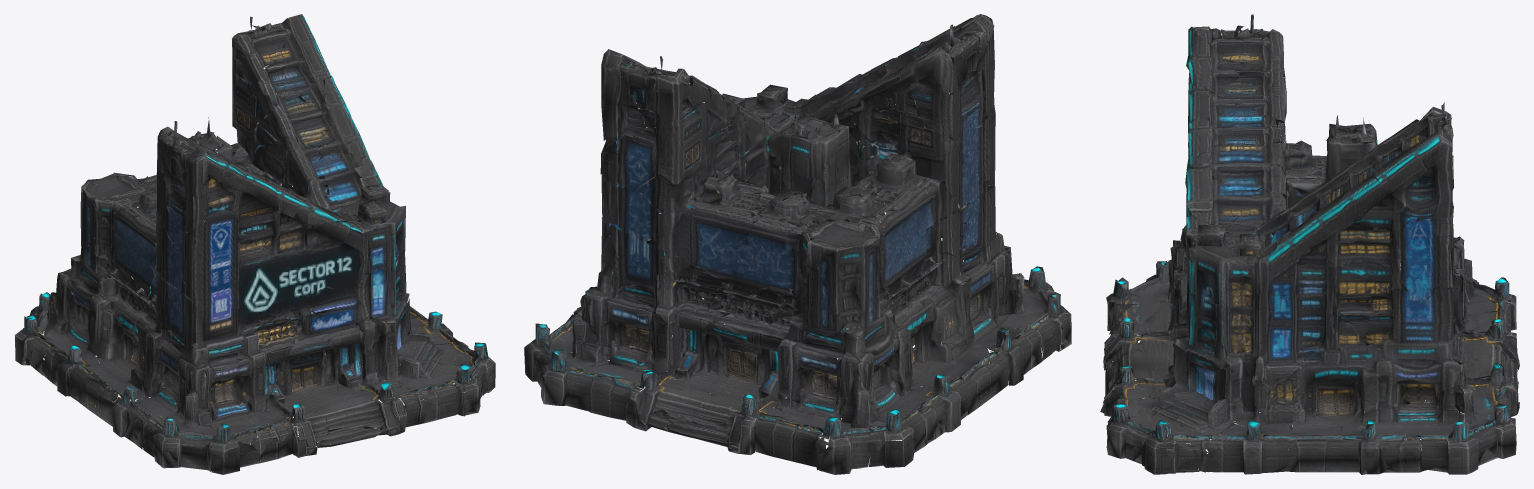
The model's file is s12Corp_LOD1.glb.
The picture shows the model from 3 angles, left to right: view 1: azimuth 30°, elevation 25°; view 2: azimuth 150°, elevation 25°; view 3: azimuth 270°, elevation 25°; orthographic projection. The views are drawn at different scales.
Parts seen in each view (by area): view 1: Mesh_0; view 2: Mesh_0; view 3: Mesh_0.
Boxes of the visible parts, bbox=[...] form: Mesh_0: bbox=[14, 14, 495, 474]; Mesh_0: bbox=[524, 14, 1071, 474]; Mesh_0: bbox=[1100, 14, 1519, 474].
Bounding box in the file's own units: 1.88 × 1.62 × 1.92.
Materials: 1 (1 with a texture image).
